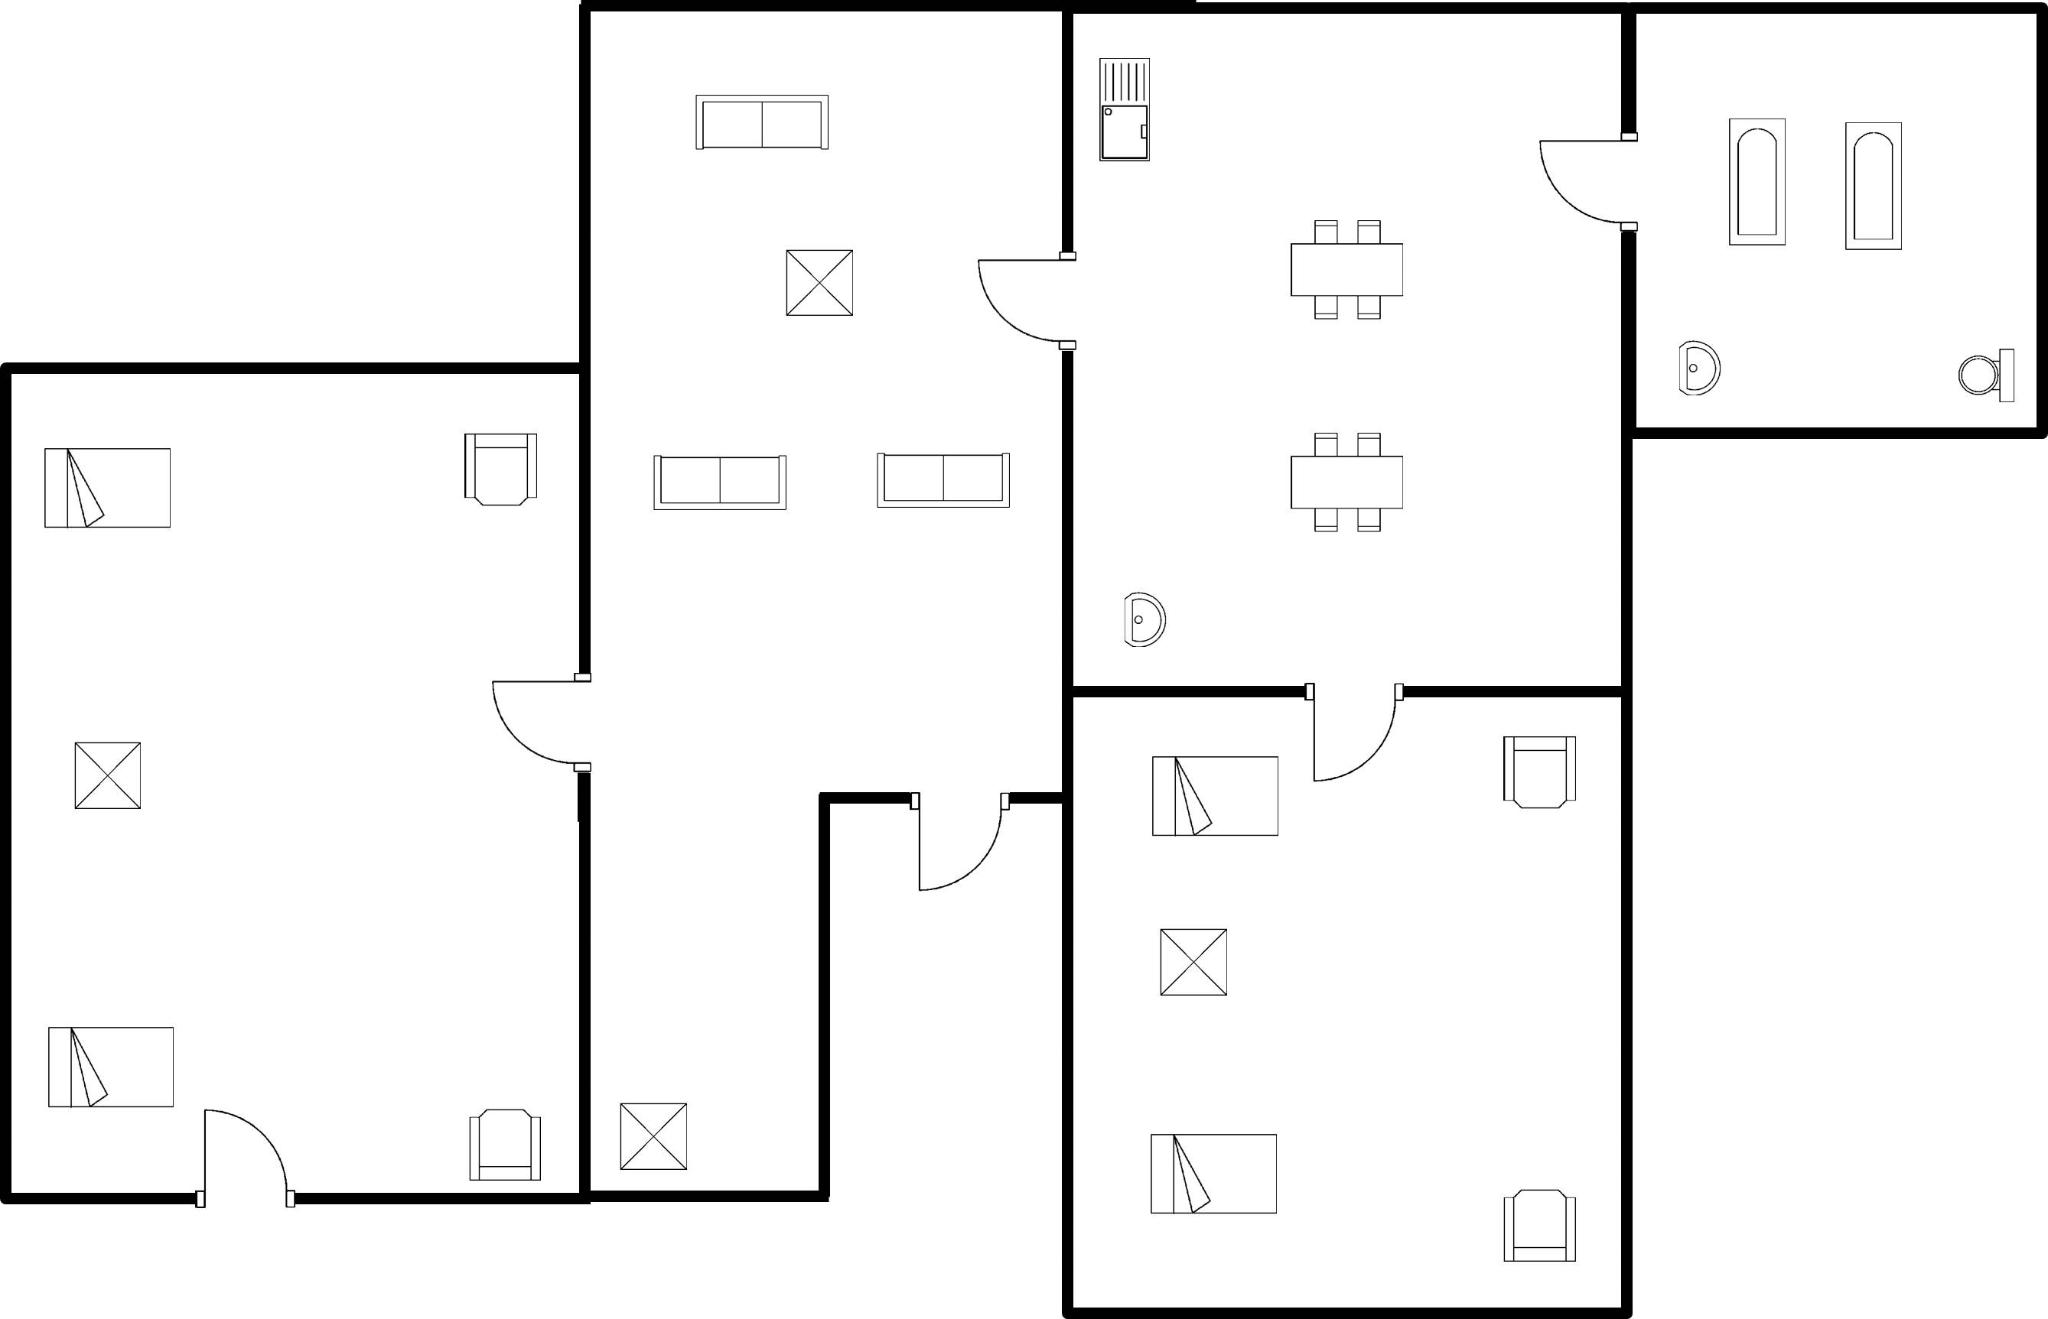bed: (1136, 743, 1290, 850), (34, 439, 181, 543), (1139, 1125, 1287, 1228), (36, 1018, 185, 1118)
dining_table: (1270, 209, 1415, 331), (1281, 421, 1417, 543)
sink: (1088, 45, 1161, 175)
sofa: (640, 439, 799, 522), (864, 442, 1018, 522), (682, 82, 837, 160)
toilet: (1944, 337, 2023, 413)
tub: (1832, 109, 1915, 260), (1718, 107, 1796, 255)
